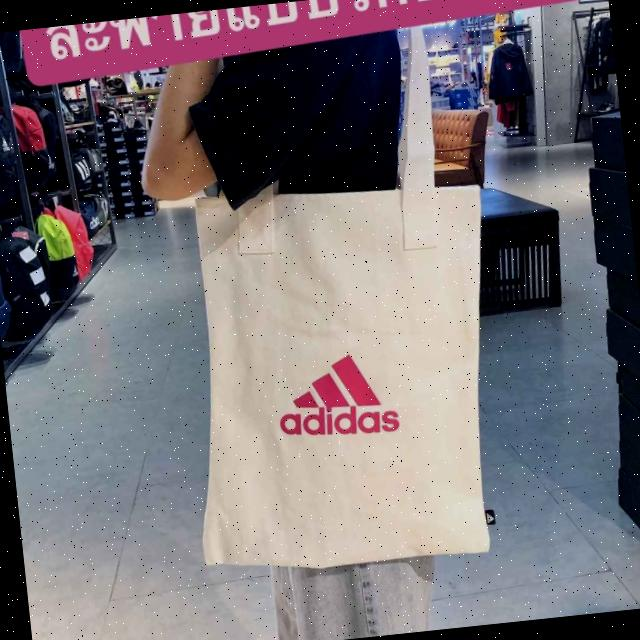handbag: (164, 146, 530, 601)
